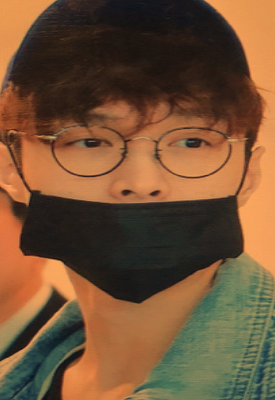mask_weared_incorrect: (16, 107, 246, 304)
